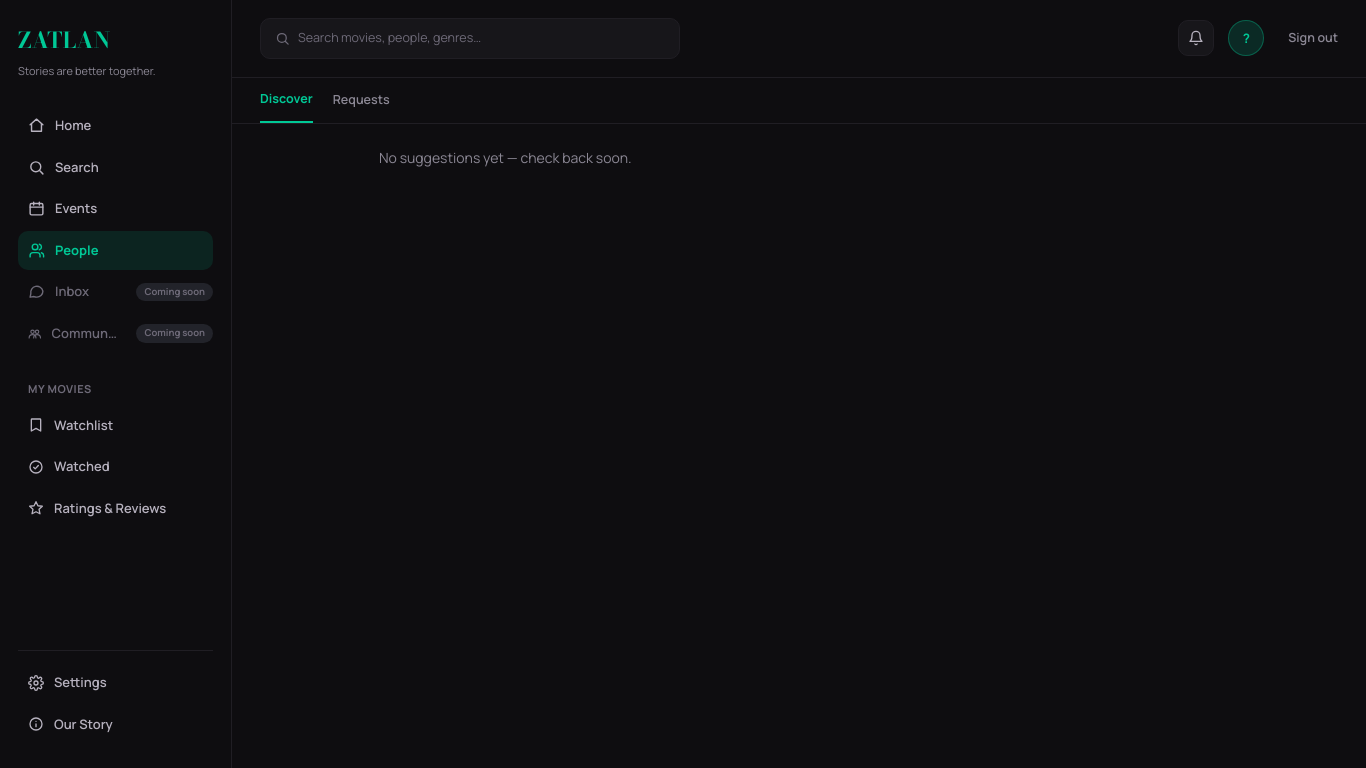
PeopleDiscovery › Requests tab › shows an empty state when there are no pending requests
Step 1. Click the button "Requests" → (361, 106), box [333,90,390,123]
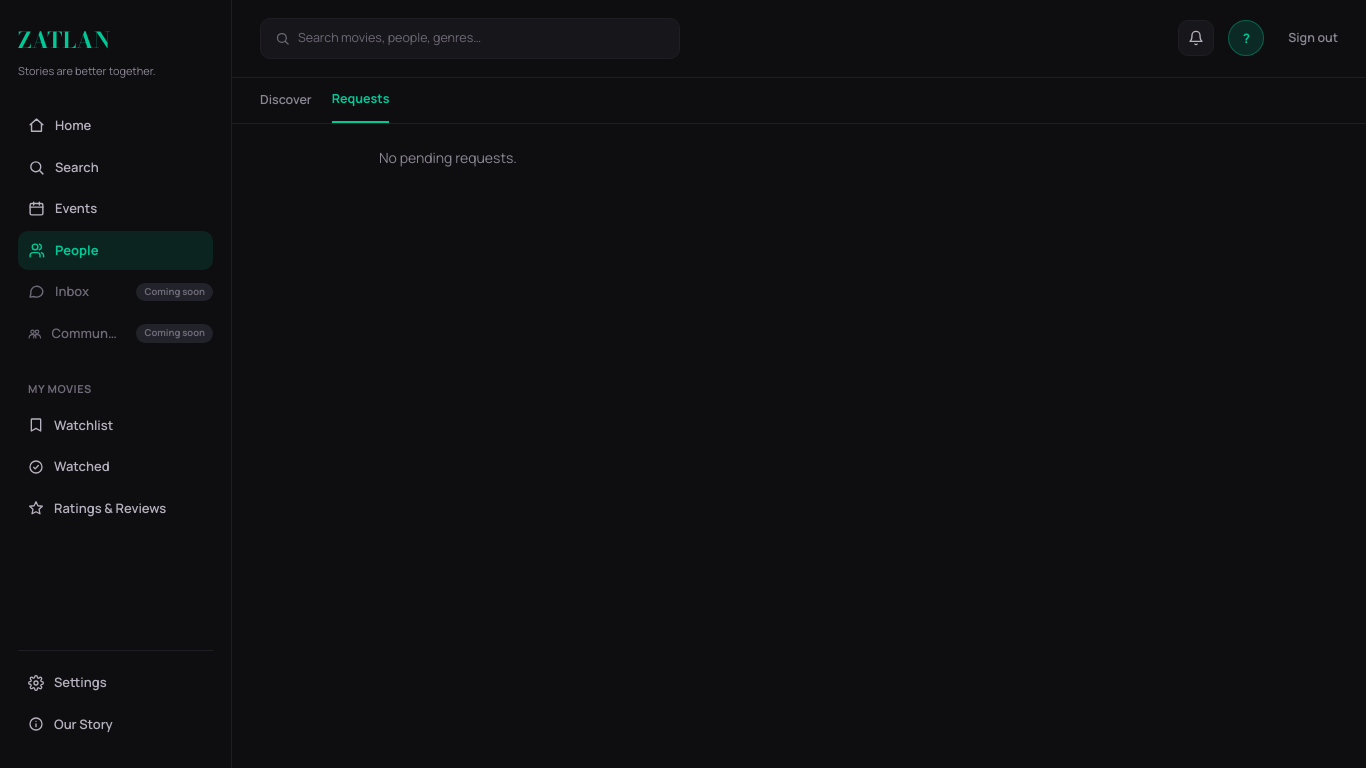
Check: the text "No pending requests." is shown, box [379,148,517,166]
